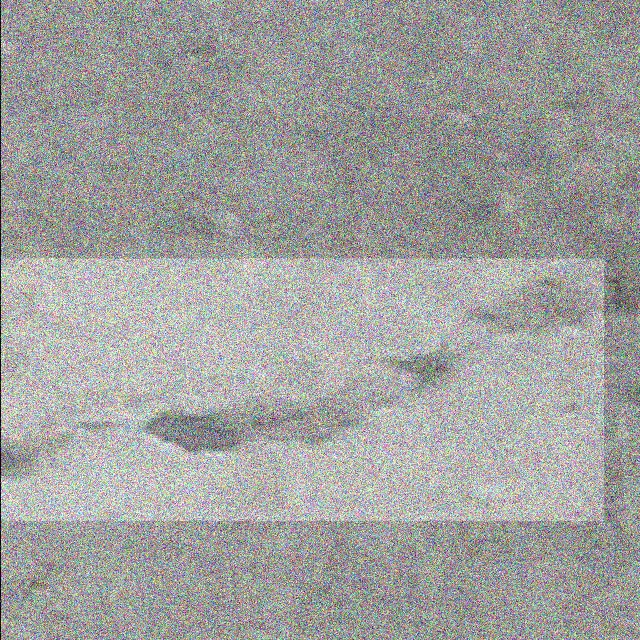SurfaceCrack: (0, 262, 616, 518)
